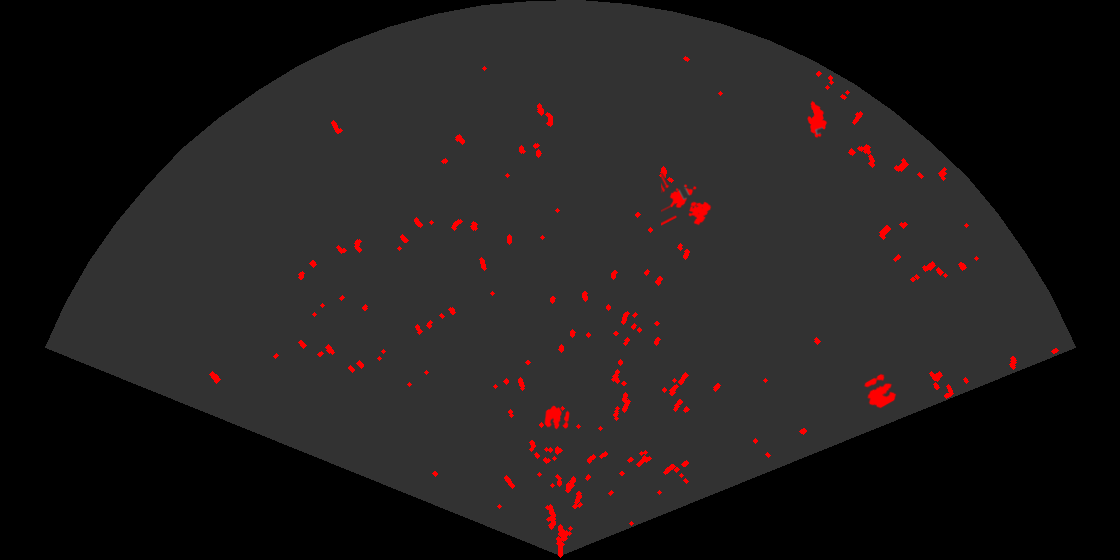AUV: (806, 99, 829, 140)
ball: (862, 372, 898, 410), (543, 404, 571, 431)
cage: (661, 172, 713, 227)
